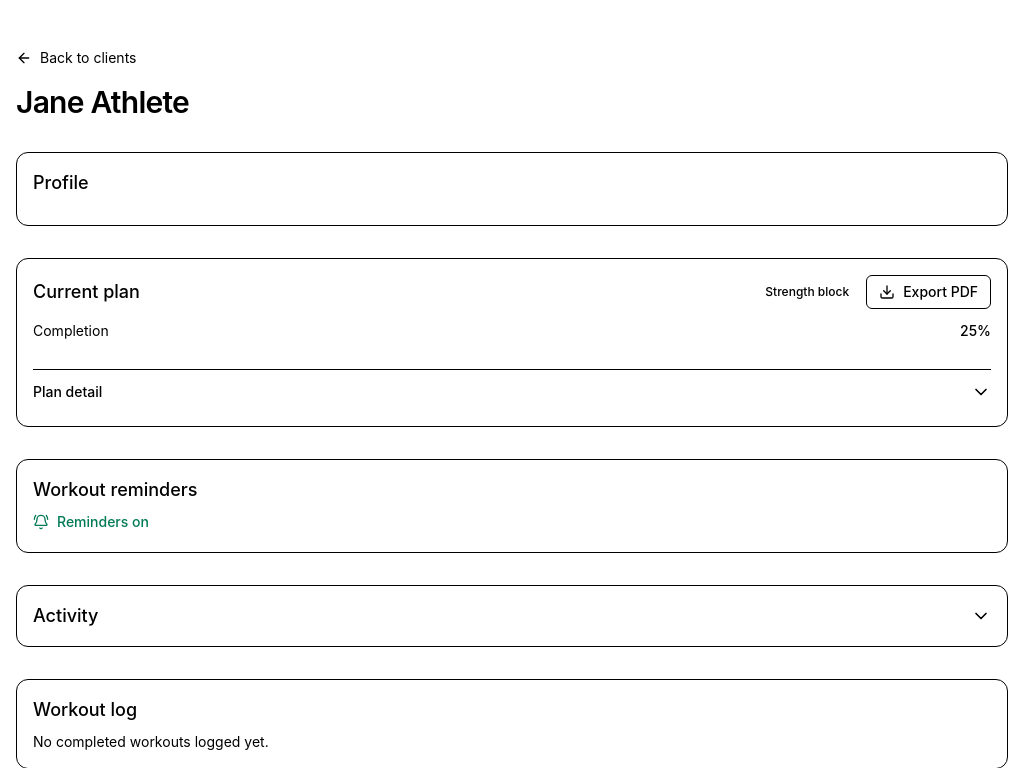
ClientDashboard plan detail › renders every workout and exercise field (en)
Click the button named "Plan detail" at (512, 392), box x1=33 y1=374 x2=991 y2=410
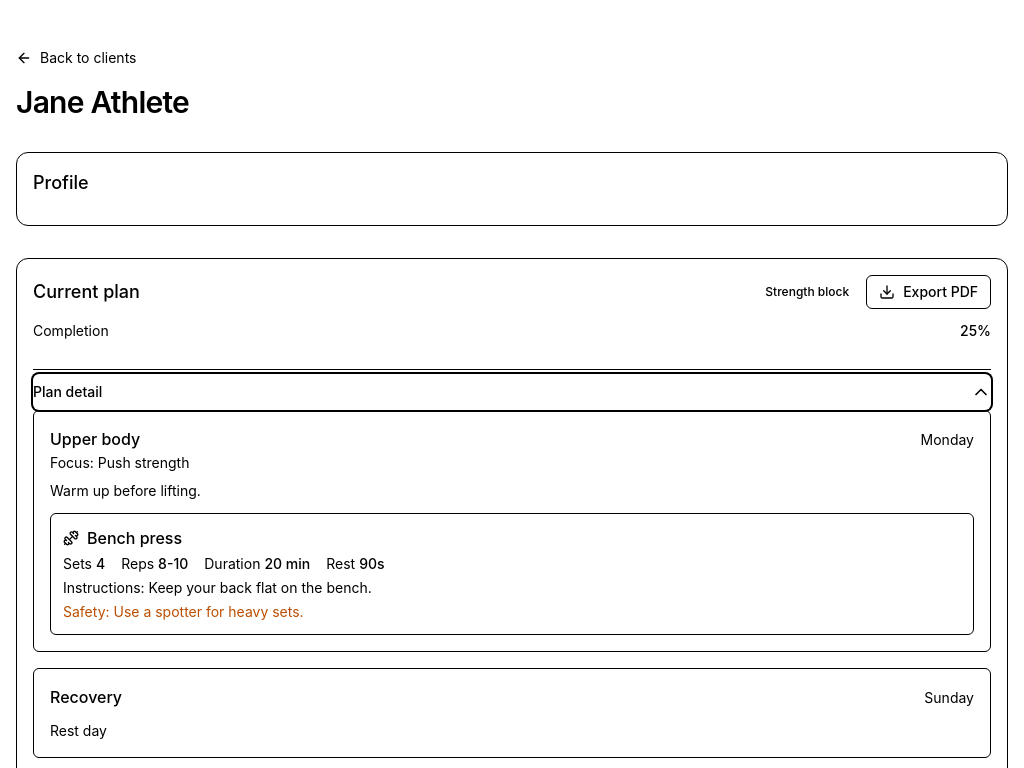
Expected: the heading "Upper body" is shown, x1=50 y1=427 x2=140 y2=451
Expected: the text "Bench press" is shown, x1=63 y1=528 x2=182 y2=548
Expected: the text "Sets" is shown, x1=63 y1=554 x2=92 y2=574
